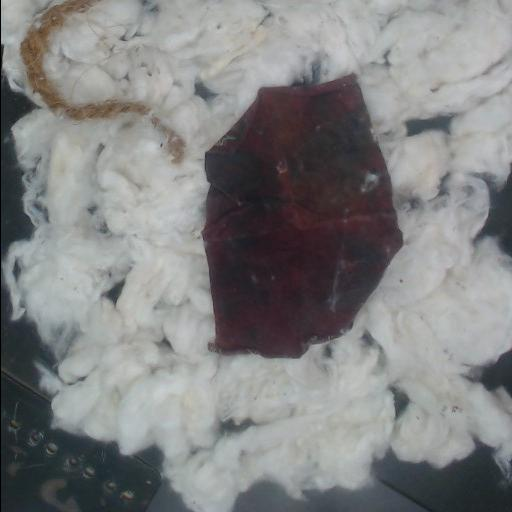cloth: (203, 74, 402, 358)
conveyor belt: (1, 279, 191, 511), (233, 446, 512, 511), (1, 75, 34, 259), (477, 167, 512, 255), (406, 116, 449, 135), (105, 281, 122, 302), (195, 82, 215, 99), (221, 421, 248, 430)
cotton: (1, 0, 512, 511)
jute: (20, 0, 150, 120), (150, 116, 185, 162)
